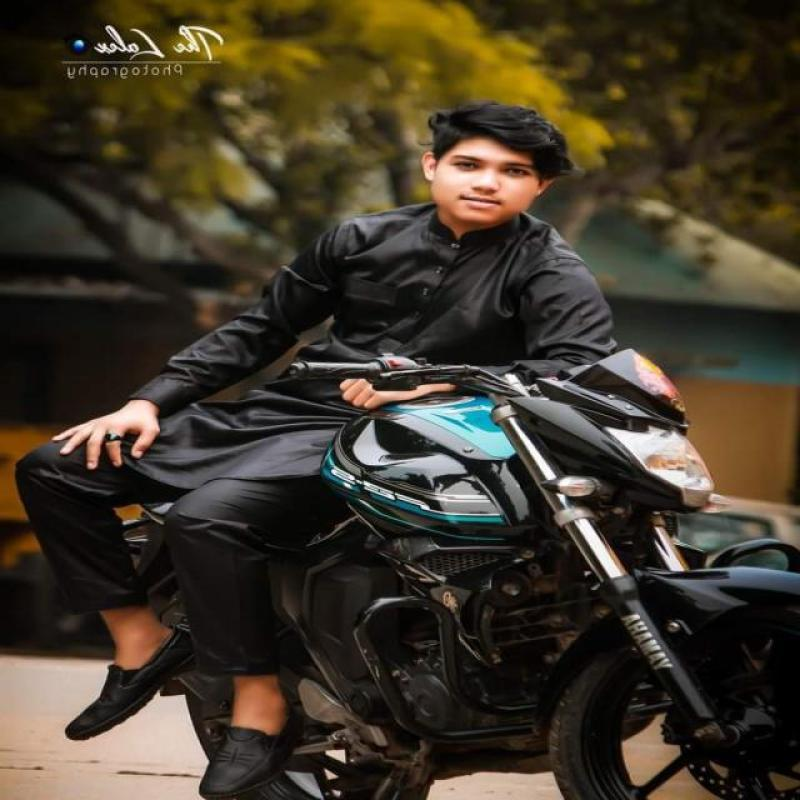nohelmet: (411, 95, 589, 235)
